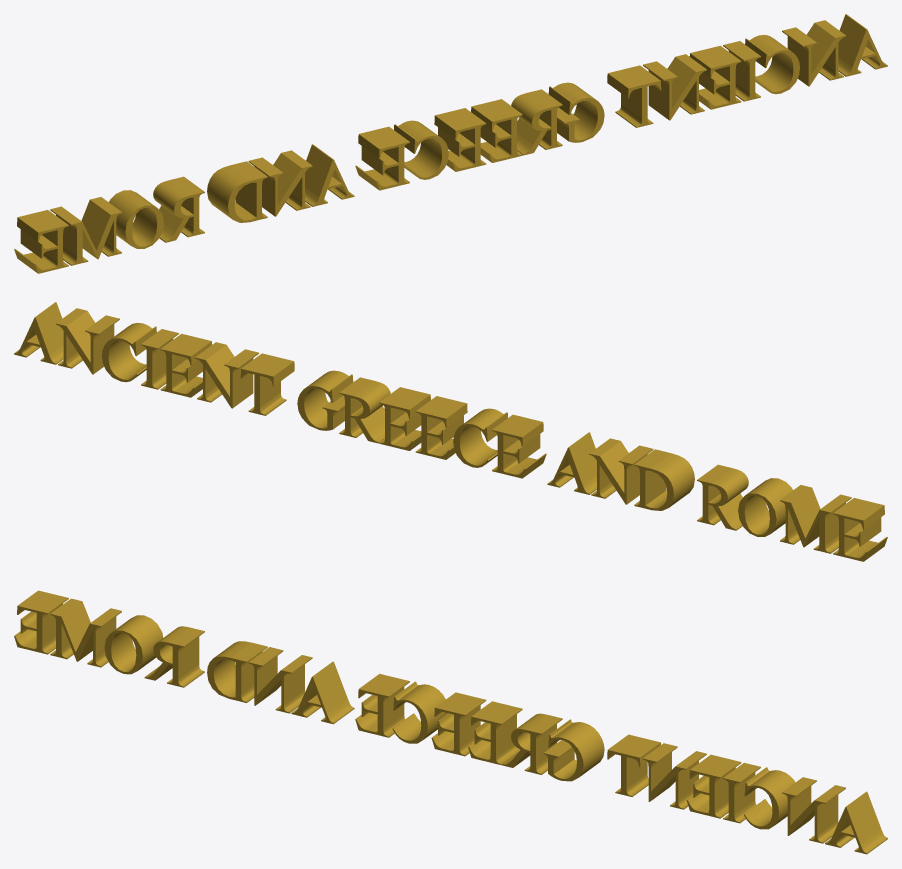
File: inscription.FBX
3 renders of one model, top to bottom at view 1: azimuth 30°, elevation 25°; view 2: azimuth 150°, elevation 25°; view 3: azimuth 330°, elevation 25°, orthographic.
Visible parts, largest first — view 1: Text004; view 2: Text004; view 3: Text004.
Part boxes in pixels (left/top/right/bottom): Text004: left=14, top=14, right=887, bottom=273; Text004: left=14, top=302, right=887, bottom=561; Text004: left=14, top=590, right=887, bottom=854.
Bounding box in the file's own units: 23.5 × 1.14 × 1.
